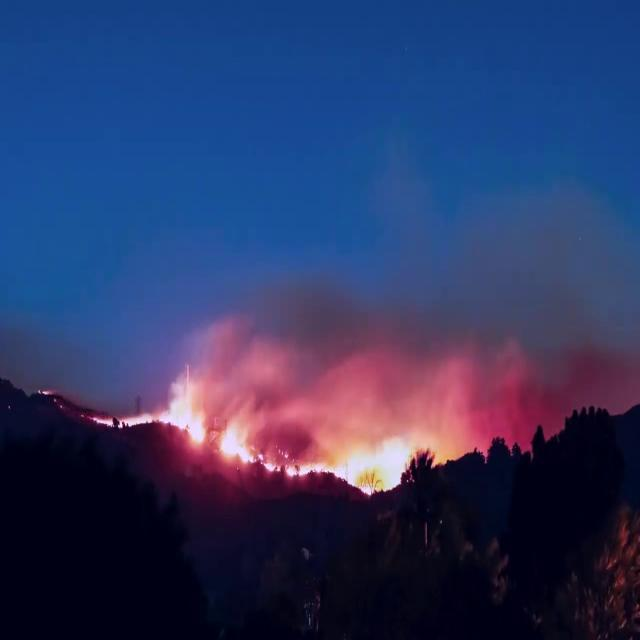Fire: (224, 409, 410, 495), (88, 392, 206, 443), (41, 388, 52, 397)
Smoke: (174, 198, 636, 480)
